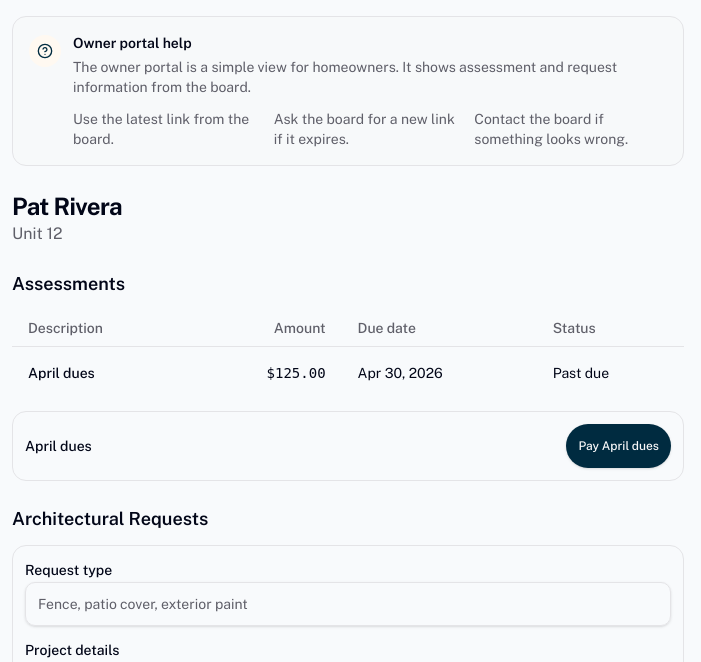
Test case: Owner portal help › tracks owner portal payment failures without leaking token or description
Click the button "Pay April dues" at (619, 446), box [566, 424, 671, 468]
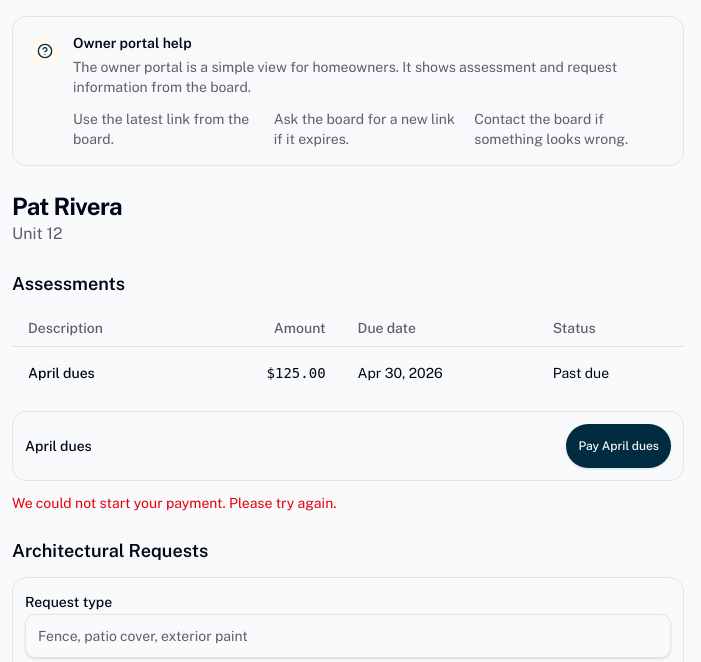
expect the text "We could not start your payment. Please try again." is shown: met, box [12, 494, 336, 510]
